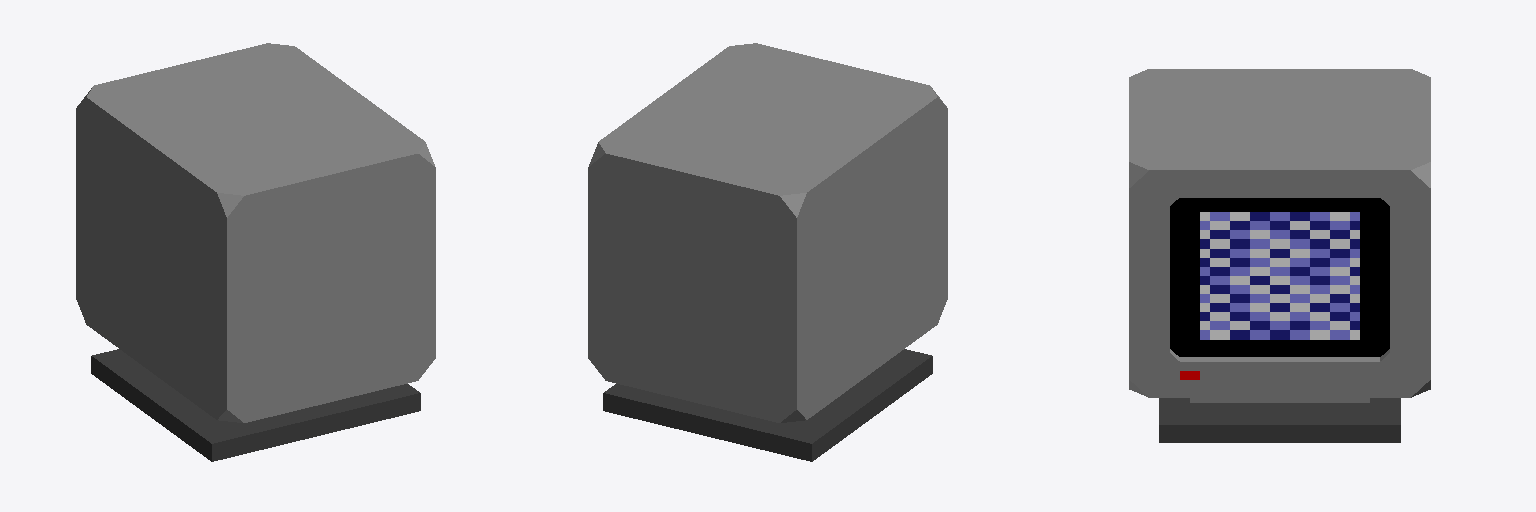
3 views of the same model, side by side, from view 1: azimuth 30°, elevation 25°; view 2: azimuth 150°, elevation 25°; view 3: azimuth 270°, elevation 25° (orthographic).
Visible parts, largest first — view 1: Cube; view 2: Cube; view 3: Cube.
Boxes of the visible parts, x1=… form: Cube: x1=76, y1=43, x2=435, y2=461; Cube: x1=588, y1=43, x2=947, y2=461; Cube: x1=1129, y1=69, x2=1430, y2=442.
Bounding box in the file's own units: 1.6 × 2 × 2.
2 materials, 2 textured.